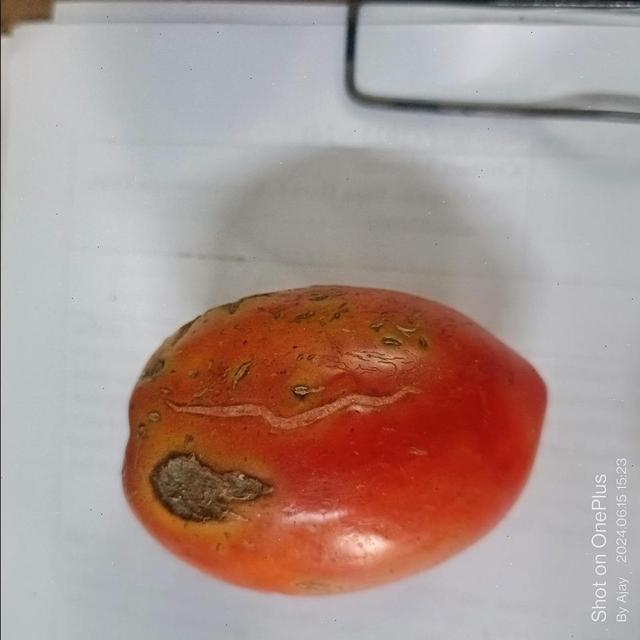Cracking Fruit: (106, 274, 183, 351)
